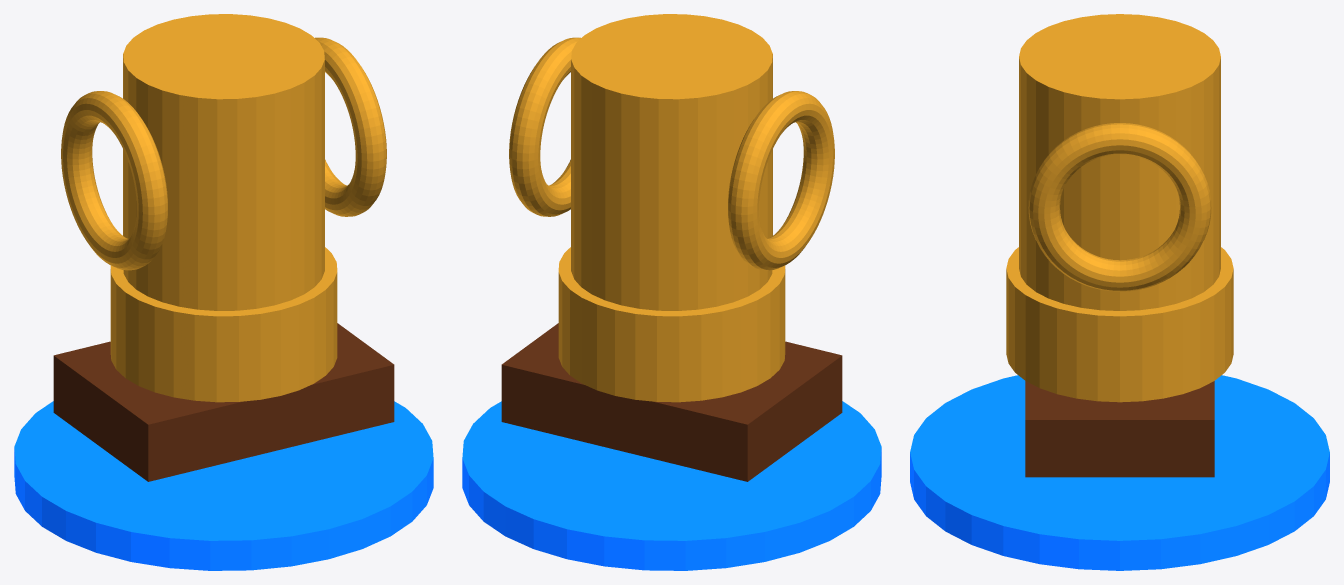
The model's file is sports_trophy.dae.
3 views of the same model, side by side, from view 1: azimuth 30°, elevation 25°; view 2: azimuth 150°, elevation 25°; view 3: azimuth 270°, elevation 25° (orthographic).
Parts seen in each view (by area): view 1: 04_15_Popular_Sports_Trophy_part_02, 04_15_Popular_Sports_Trophy_ROOT_base, 04_15_Popular_Sports_Trophy_part_05, 04_15_Popular_Sports_Trophy_part_01, 04_15_Popular_Sports_Trophy_part_03, 04_15_Popular_Sports_Trophy_part_04; view 2: 04_15_Popular_Sports_Trophy_part_02, 04_15_Popular_Sports_Trophy_ROOT_base, 04_15_Popular_Sports_Trophy_part_05, 04_15_Popular_Sports_Trophy_part_01, 04_15_Popular_Sports_Trophy_part_03, 04_15_Popular_Sports_Trophy_part_04; view 3: 04_15_Popular_Sports_Trophy_ROOT_base, 04_15_Popular_Sports_Trophy_part_02, 04_15_Popular_Sports_Trophy_part_01, 04_15_Popular_Sports_Trophy_part_05, 04_15_Popular_Sports_Trophy_part_04.
Part boxes in pixels (bbox=[...]): 04_15_Popular_Sports_Trophy_part_02: bbox=[123, 14, 324, 310]; 04_15_Popular_Sports_Trophy_ROOT_base: bbox=[14, 401, 433, 570]; 04_15_Popular_Sports_Trophy_part_05: bbox=[53, 323, 394, 481]; 04_15_Popular_Sports_Trophy_part_01: bbox=[110, 247, 337, 402]; 04_15_Popular_Sports_Trophy_part_03: bbox=[61, 91, 167, 270]; 04_15_Popular_Sports_Trophy_part_04: bbox=[315, 37, 386, 216]; 04_15_Popular_Sports_Trophy_part_02: bbox=[571, 14, 772, 310]; 04_15_Popular_Sports_Trophy_ROOT_base: bbox=[462, 401, 881, 570]; 04_15_Popular_Sports_Trophy_part_05: bbox=[501, 323, 842, 481]; 04_15_Popular_Sports_Trophy_part_01: bbox=[558, 247, 785, 402]; 04_15_Popular_Sports_Trophy_part_03: bbox=[728, 91, 834, 270]; 04_15_Popular_Sports_Trophy_part_04: bbox=[509, 37, 580, 216]; 04_15_Popular_Sports_Trophy_ROOT_base: bbox=[910, 375, 1329, 570]; 04_15_Popular_Sports_Trophy_part_02: bbox=[1019, 14, 1220, 310]; 04_15_Popular_Sports_Trophy_part_01: bbox=[1006, 247, 1233, 402]; 04_15_Popular_Sports_Trophy_part_05: bbox=[1025, 381, 1214, 477]; 04_15_Popular_Sports_Trophy_part_04: bbox=[1028, 123, 1211, 291].
Bounding box in the file's own units: 0.76 × 0.85 × 0.76.
